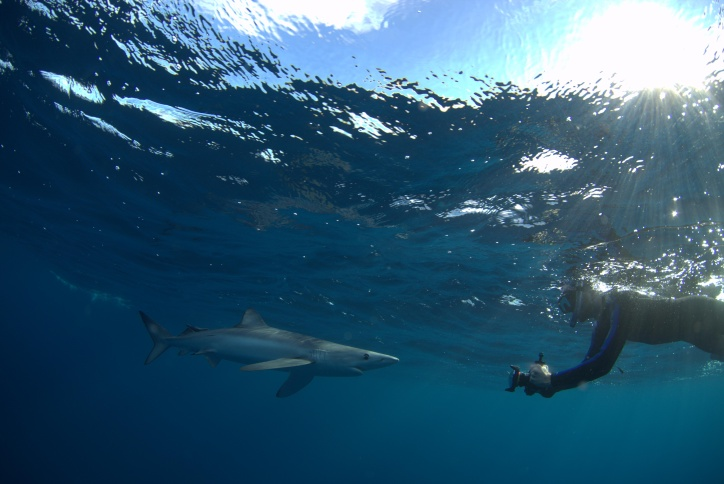Azul: (133, 300, 412, 411)
